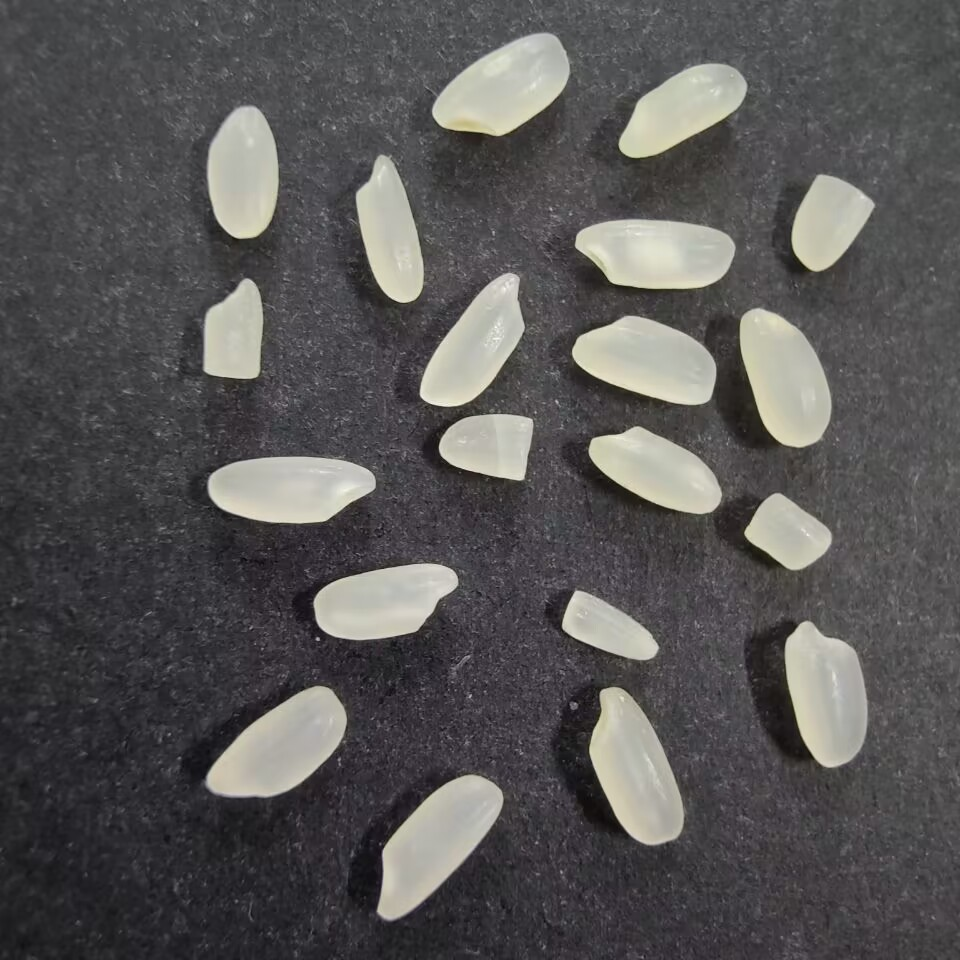broken: (786, 168, 880, 274), (433, 408, 540, 486), (556, 586, 659, 663), (740, 491, 836, 573), (195, 276, 268, 383)
rice: (373, 769, 510, 926), (202, 683, 349, 805), (586, 681, 690, 847), (415, 267, 530, 410), (430, 29, 576, 138), (734, 302, 836, 449), (565, 311, 720, 407), (616, 58, 753, 162), (782, 615, 869, 772), (306, 559, 462, 645), (205, 453, 383, 528), (567, 216, 740, 292), (585, 425, 725, 518), (351, 152, 426, 309), (205, 100, 282, 243)
